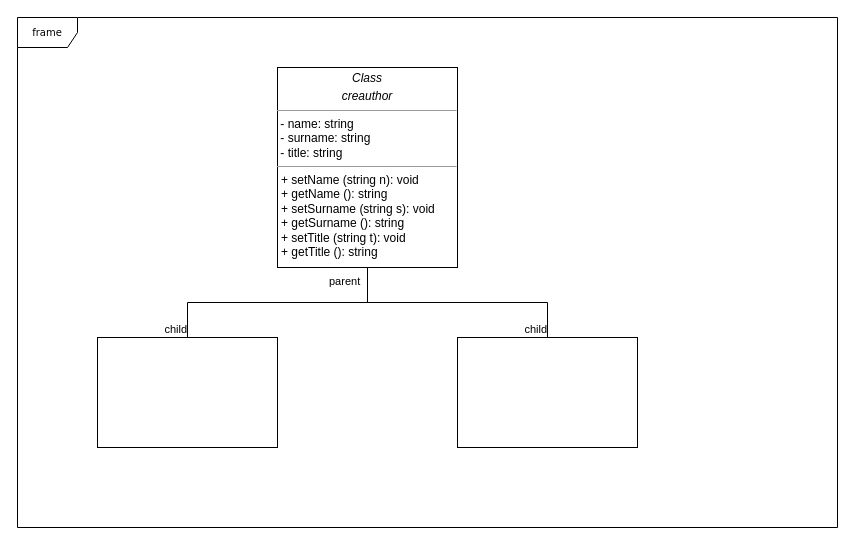
The diagram is 855 pixels wide and 545 high, and some of its shapes have lost their labels. Each missing label, with the box of its shape:
Class book - date: string + setDate (string dt): void + getDate (): string: (456, 336, 638, 448)
Class book - year: string + setYear (string y): void + getYear (): string: (96, 336, 278, 448)
